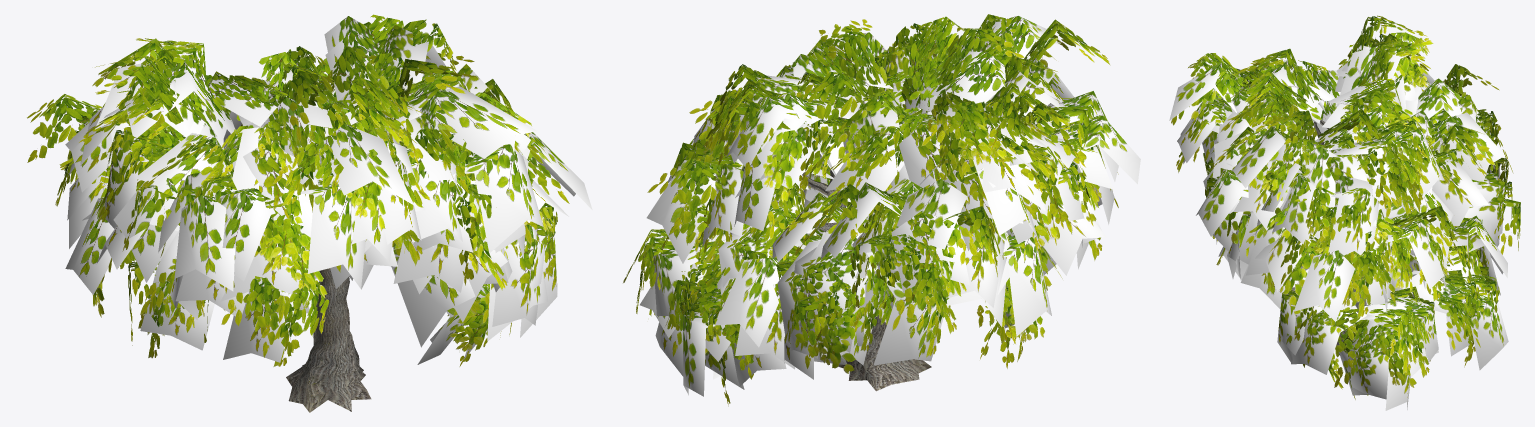
Rendered from abre2.fbx.
The picture shows the model from 3 angles, left to right: view 1: azimuth 30°, elevation 25°; view 2: azimuth 150°, elevation 25°; view 3: azimuth 270°, elevation 25°; orthographic projection. The views are drawn at different scales.
Parts seen in each view (by area): view 1: polySurface427; view 2: polySurface427; view 3: polySurface427.
Boxes of the visible parts, left/top/right/bottom form: polySurface427: left=27, top=14, right=592, bottom=412; polySurface427: left=623, top=14, right=1140, bottom=406; polySurface427: left=1169, top=15, right=1520, bottom=410.
Bounding box in the file's own units: 13.91 × 10.78 × 12.14.
